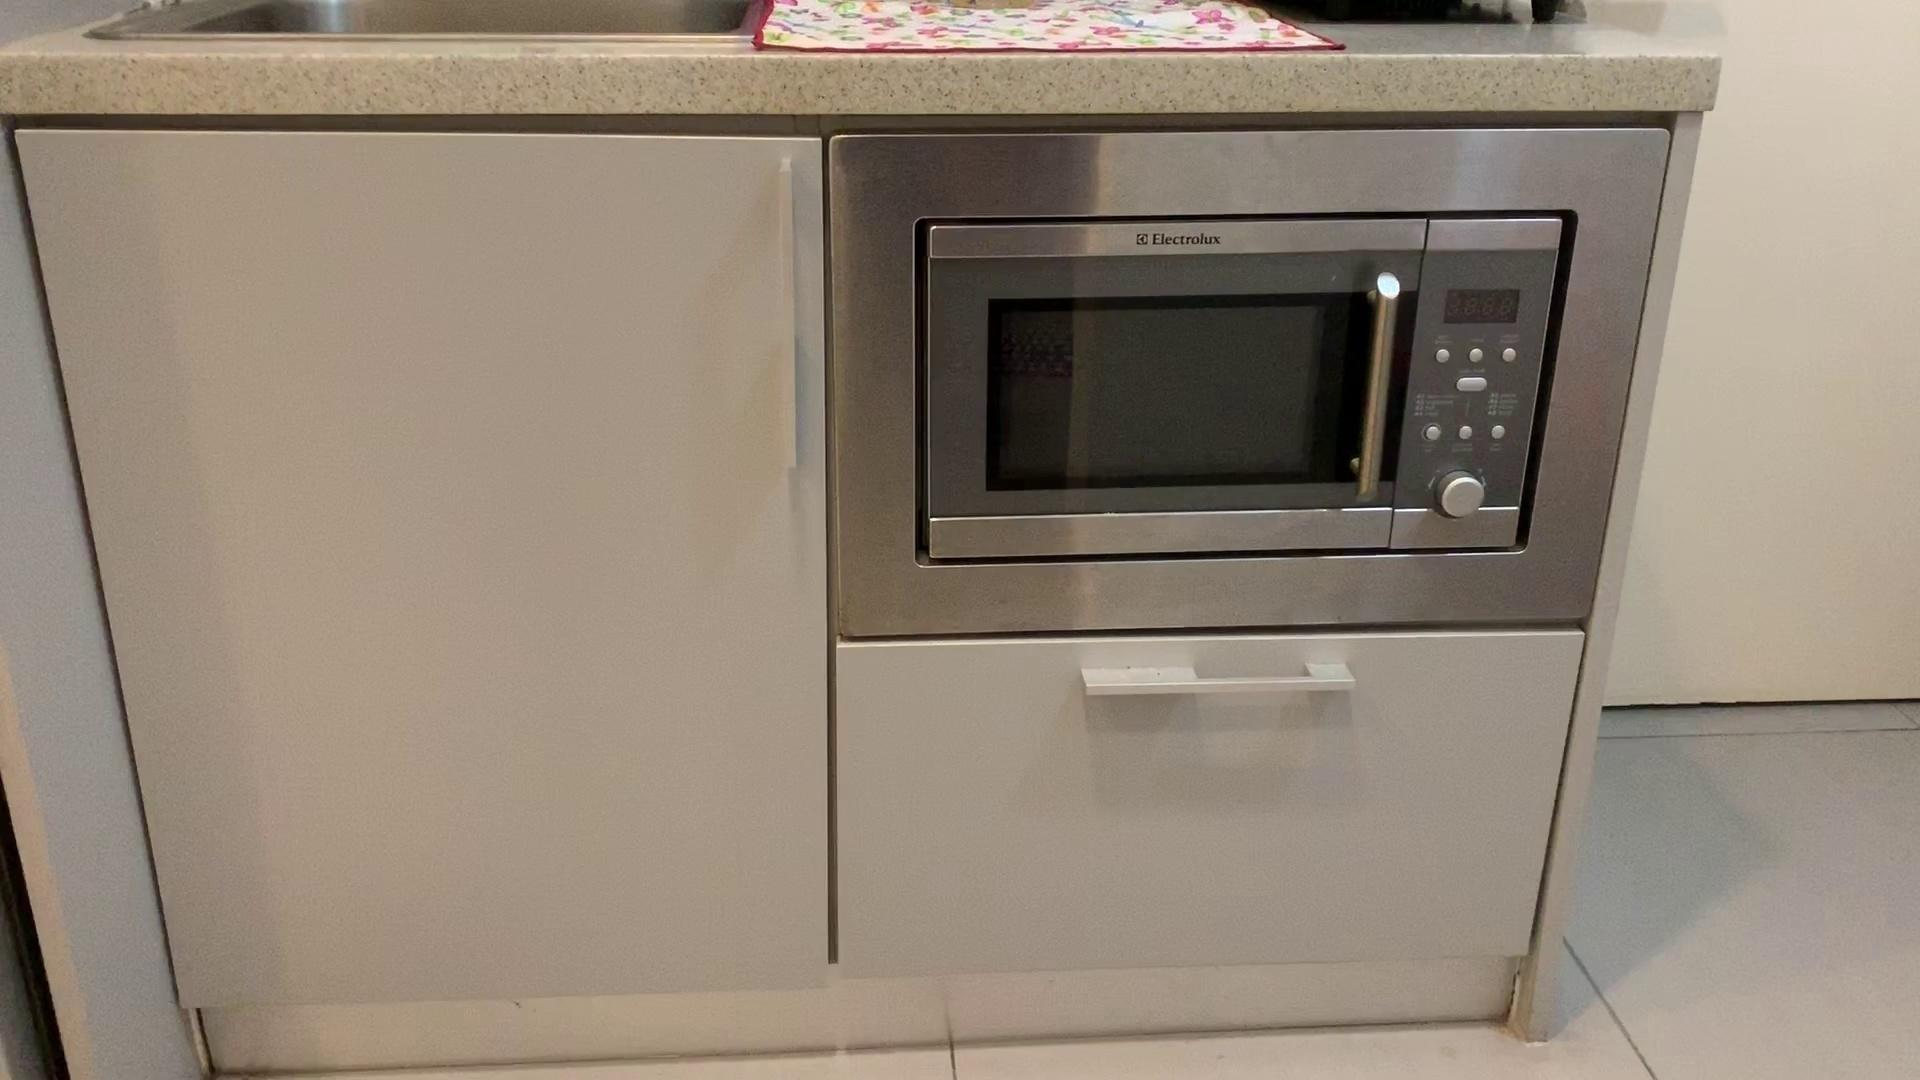cabinet_door: (87, 131, 836, 985), (853, 637, 1576, 959)
handle: (767, 154, 827, 495), (1068, 650, 1370, 711), (1344, 266, 1412, 508)
